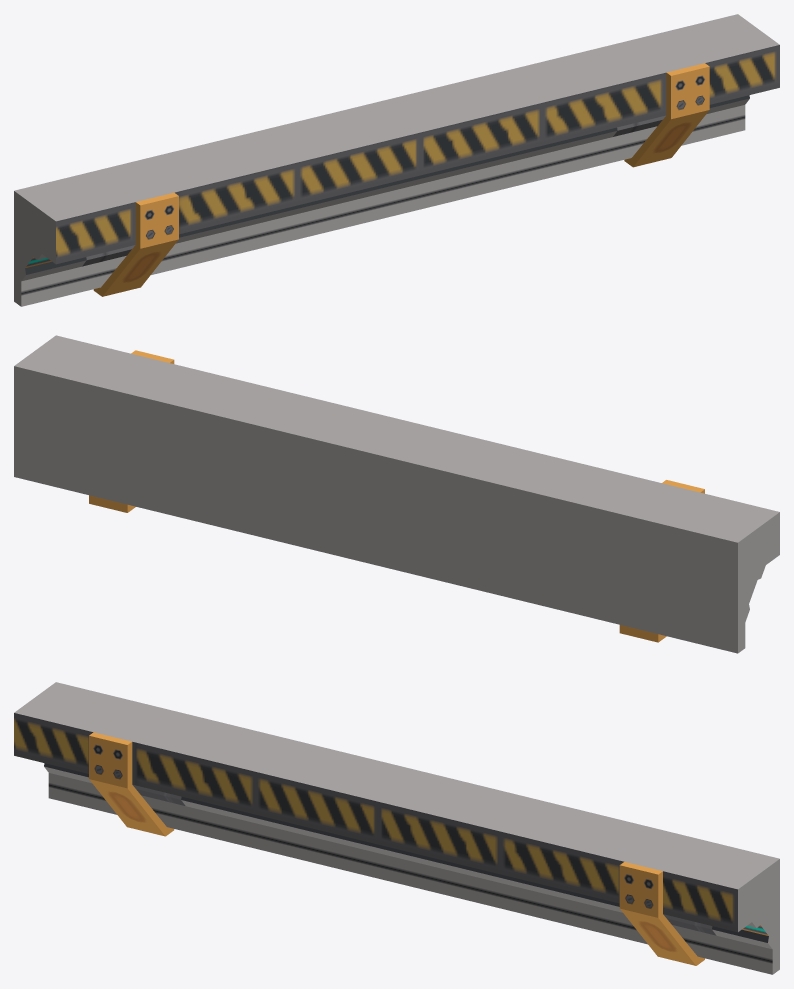
File: SM_Bld_Ceiling_Trim_01.fbx
3 views of the same model, one above another, from view 1: azimuth 30°, elevation 25°; view 2: azimuth 150°, elevation 25°; view 3: azimuth 330°, elevation 25° (orthographic).
Visible parts, largest first — view 1: SM_Bld_Ceiling_Trim_01; view 2: SM_Bld_Ceiling_Trim_01; view 3: SM_Bld_Ceiling_Trim_01.
Boxes of the visible parts, x1,y1,x2,y2 form: SM_Bld_Ceiling_Trim_01: (14,14,779,306); SM_Bld_Ceiling_Trim_01: (14,335,779,653); SM_Bld_Ceiling_Trim_01: (14,682,779,974).
Bounding box in the file's own units: 250 × 39.37 × 27.93.
